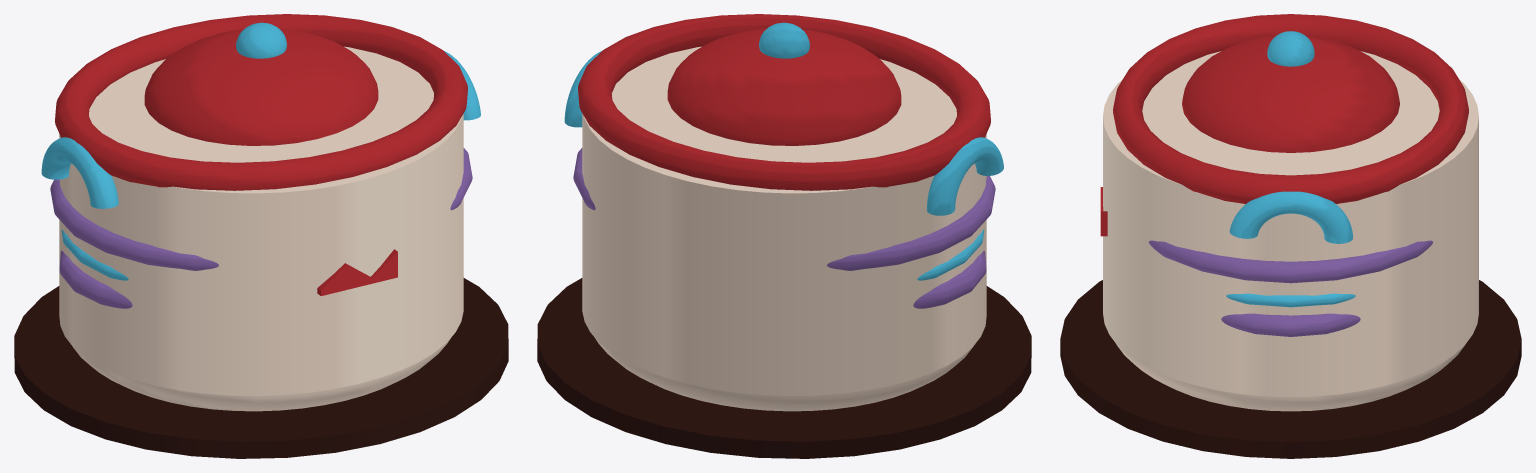
Rendered from 0651_四大发明图鉴_火龙出水.glb.
3 renders of one model, left to right at view 1: azimuth 30°, elevation 25°; view 2: azimuth 150°, elevation 25°; view 3: azimuth 270°, elevation 25°, orthographic. The views are drawn at different scales.
Parts seen in each view (by area): view 1: card_0651; view 2: card_0651; view 3: card_0651.
Part boxes in pixels (x1=…): card_0651: x1=14, y1=14, x2=508, y2=458; card_0651: x1=537, y1=14, x2=1031, y2=458; card_0651: x1=1060, y1=14, x2=1521, y2=458.
Bounding box in the file's own units: 1.32 × 1 × 1.25.
